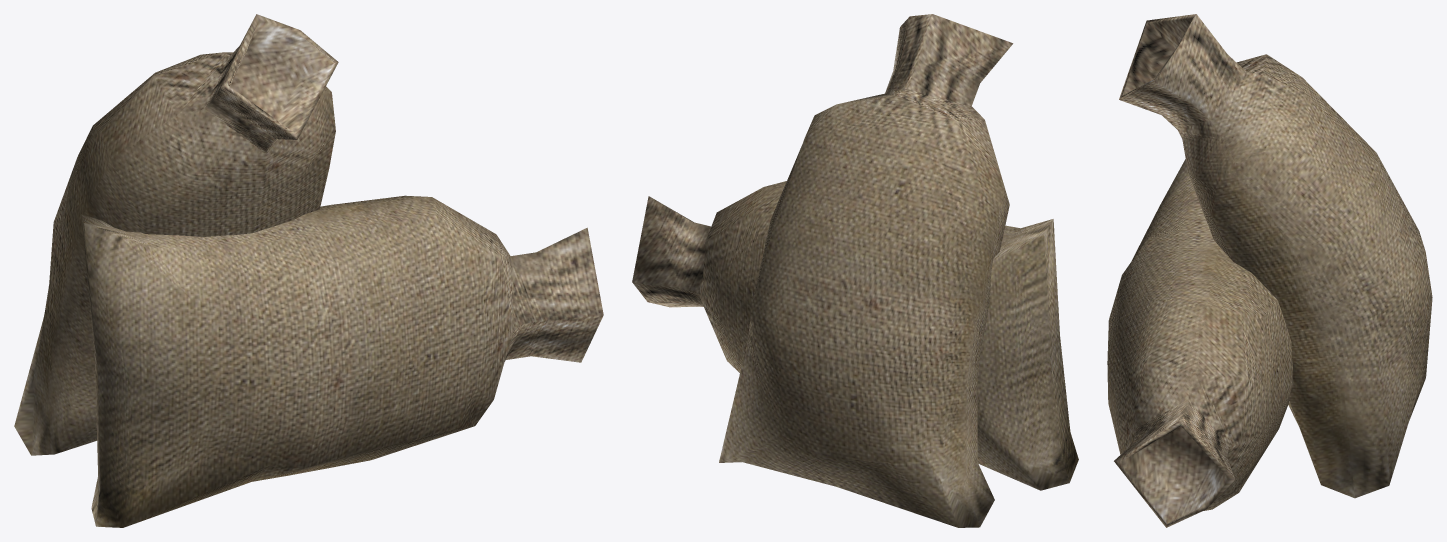
Rendered from sandbag06.FBX.
3 renders of one model, left to right at view 1: azimuth 30°, elevation 25°; view 2: azimuth 150°, elevation 25°; view 3: azimuth 270°, elevation 25°, orthographic. The views are drawn at different scales.
Parts seen in each view (by area): view 1: sandbag06; view 2: sandbag06; view 3: sandbag06.
Boxes of the visible parts, bbox=[...] form: sandbag06: bbox=[14, 14, 603, 527]; sandbag06: bbox=[632, 14, 1078, 527]; sandbag06: bbox=[1107, 14, 1432, 527].
Size of the model in its own units: 122 by 116 by 78.52.
1 material, 1 textured.
